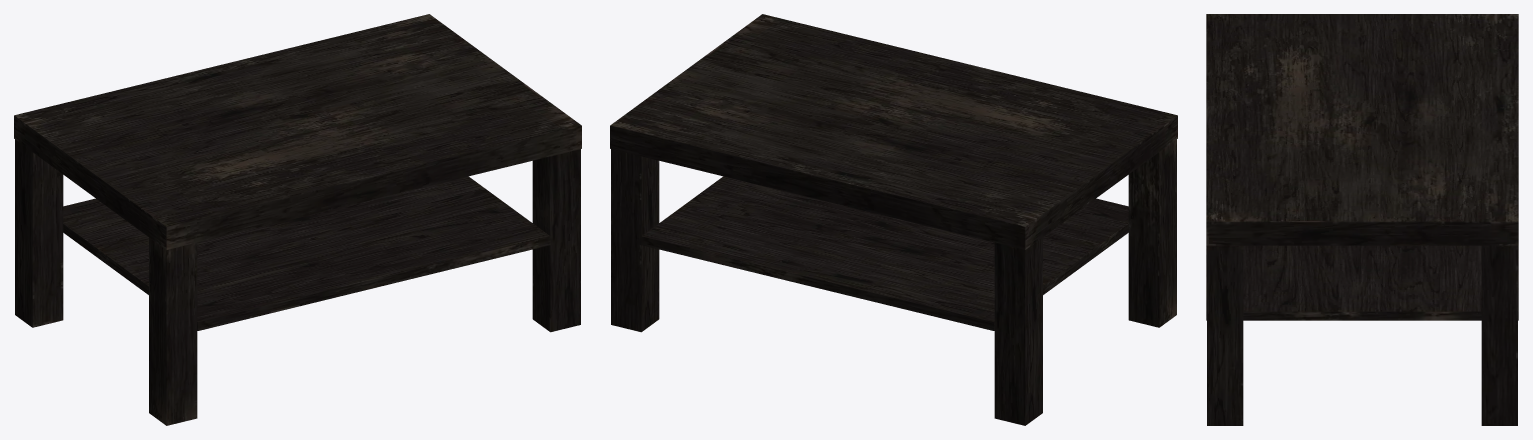
Rendered from coffee_table.glb.
3 renders of one model, left to right at view 1: azimuth 30°, elevation 25°; view 2: azimuth 150°, elevation 25°; view 3: azimuth 270°, elevation 25°, orthographic. The views are drawn at different scales.
Parts seen in each view (by area): view 1: defaultMaterial; view 2: defaultMaterial; view 3: defaultMaterial.
Boxes of the visible parts, x1,y1,x2,y2 form: defaultMaterial: [14, 14, 581, 425]; defaultMaterial: [610, 14, 1177, 425]; defaultMaterial: [1206, 14, 1518, 425].
Bounding box in the file's own units: 1.31 × 0.6024 × 0.8346.
Materials: 1 (1 with a texture image).
